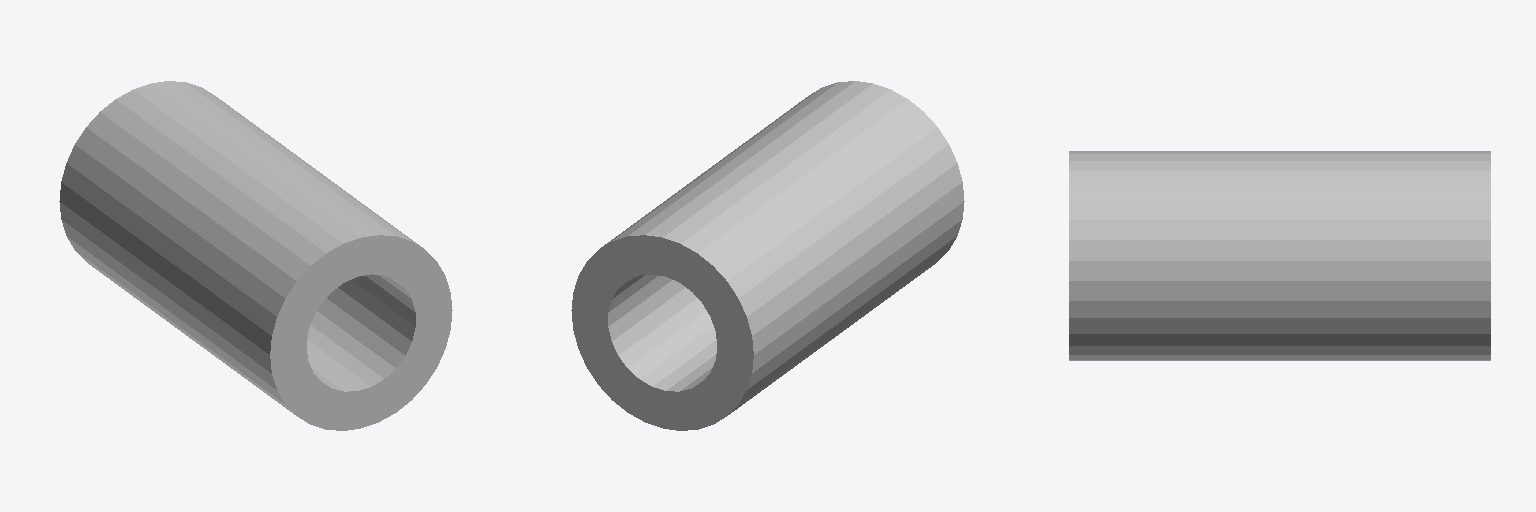
The model's file is objtest v1.obj.
3 views of the same model, side by side, from view 1: azimuth 30°, elevation 25°; view 2: azimuth 150°, elevation 25°; view 3: azimuth 270°, elevation 25° (orthographic).
Parts seen in each view (by area): view 1: ばーむくーへん; view 2: ばーむくーへん; view 3: ばーむくーへん.
Part boxes in pixels (bbox=[...]): ばーむくーへん: bbox=[59, 81, 452, 430]; ばーむくーへん: bbox=[571, 81, 964, 430]; ばーむくーへん: bbox=[1069, 151, 1490, 360].
Size of the model in its own units: 5 by 5 by 10.